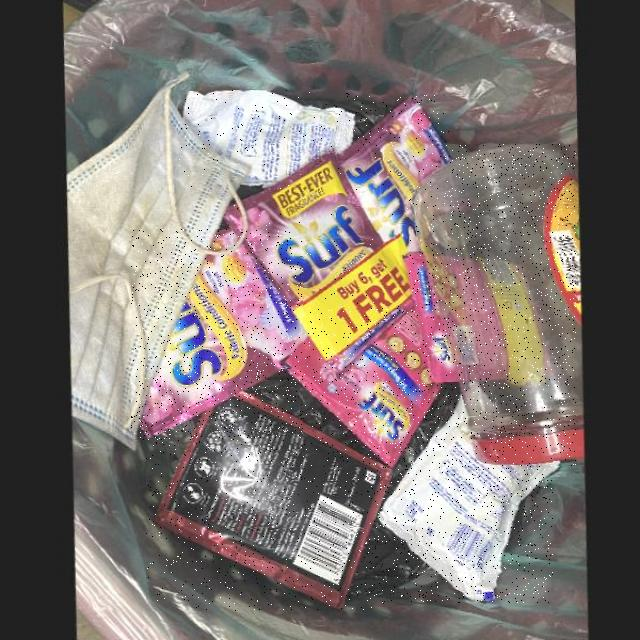plastic: (409, 145, 576, 466)
wrapper: (147, 393, 385, 611), (219, 152, 409, 379), (370, 397, 553, 603), (132, 230, 303, 440), (277, 308, 438, 466), (398, 255, 550, 382), (335, 95, 450, 252), (179, 90, 353, 187)
